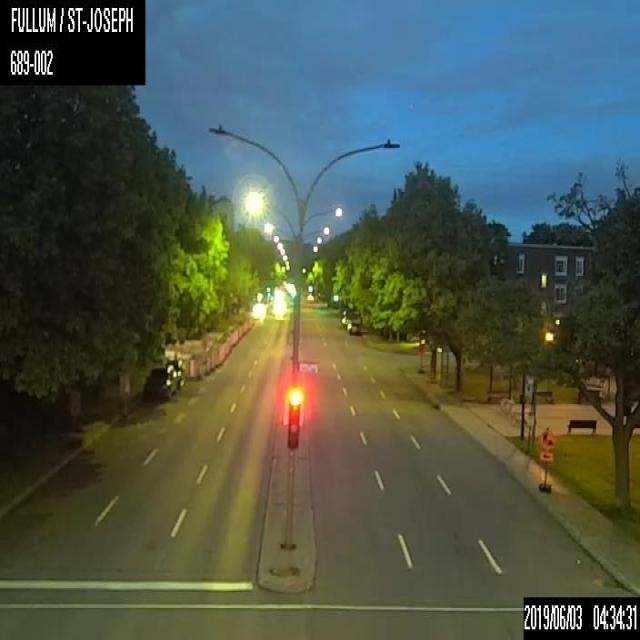construction: (536, 424, 556, 492), (187, 358, 197, 379), (203, 356, 210, 374), (210, 352, 215, 370), (200, 338, 207, 347)
vehicle: (142, 364, 176, 401), (346, 320, 360, 335)
